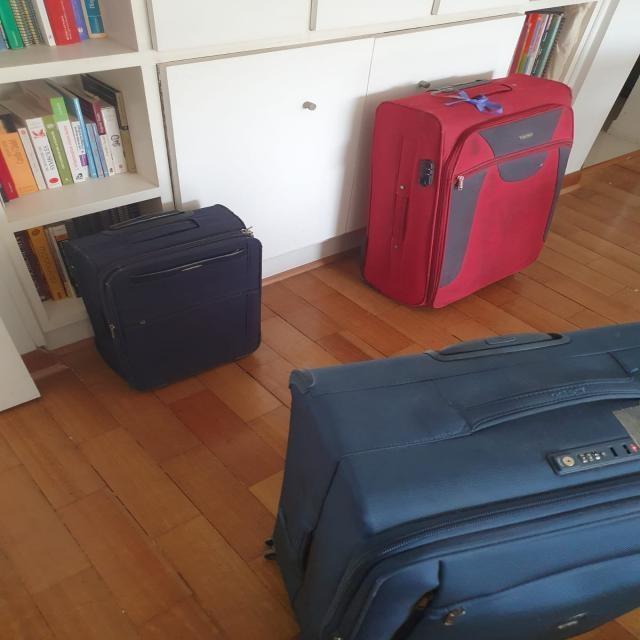Suitcase: (269, 316, 640, 640), (361, 74, 576, 309), (57, 202, 265, 393)
